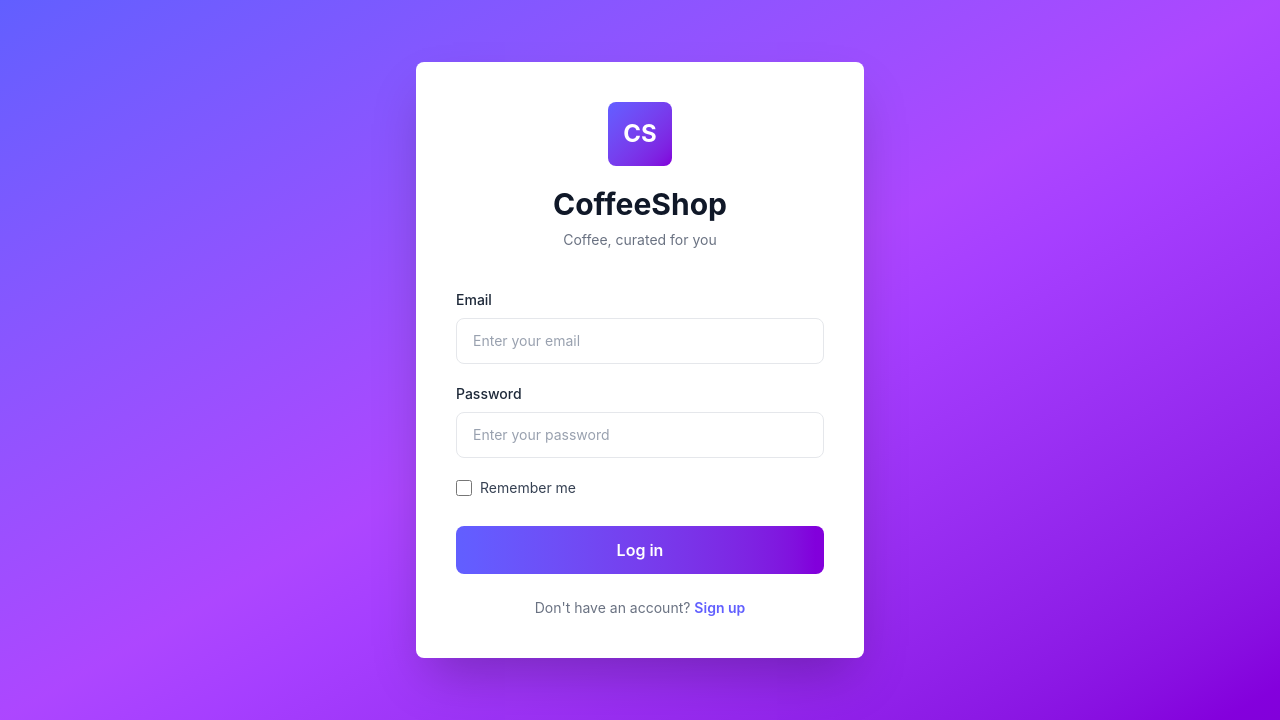
Scenario: Login Component › displays an error when credentials are invalid
Type "gresit@test.com" into the field labelled "Email".
click(640, 341); type("gresit@test.com")  # box [456,318,824,364]
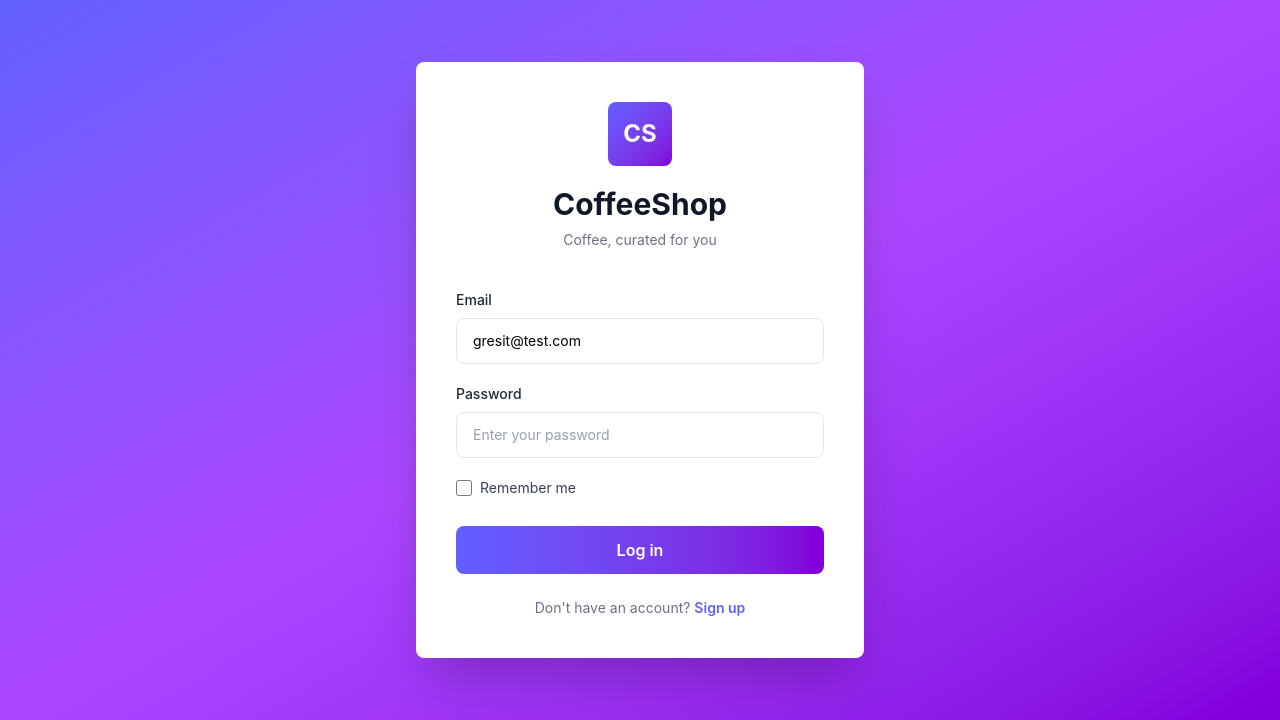
Type "gresita" into the password field labelled "Password".
click(640, 435); type("gresita")  # box [456,412,824,458]
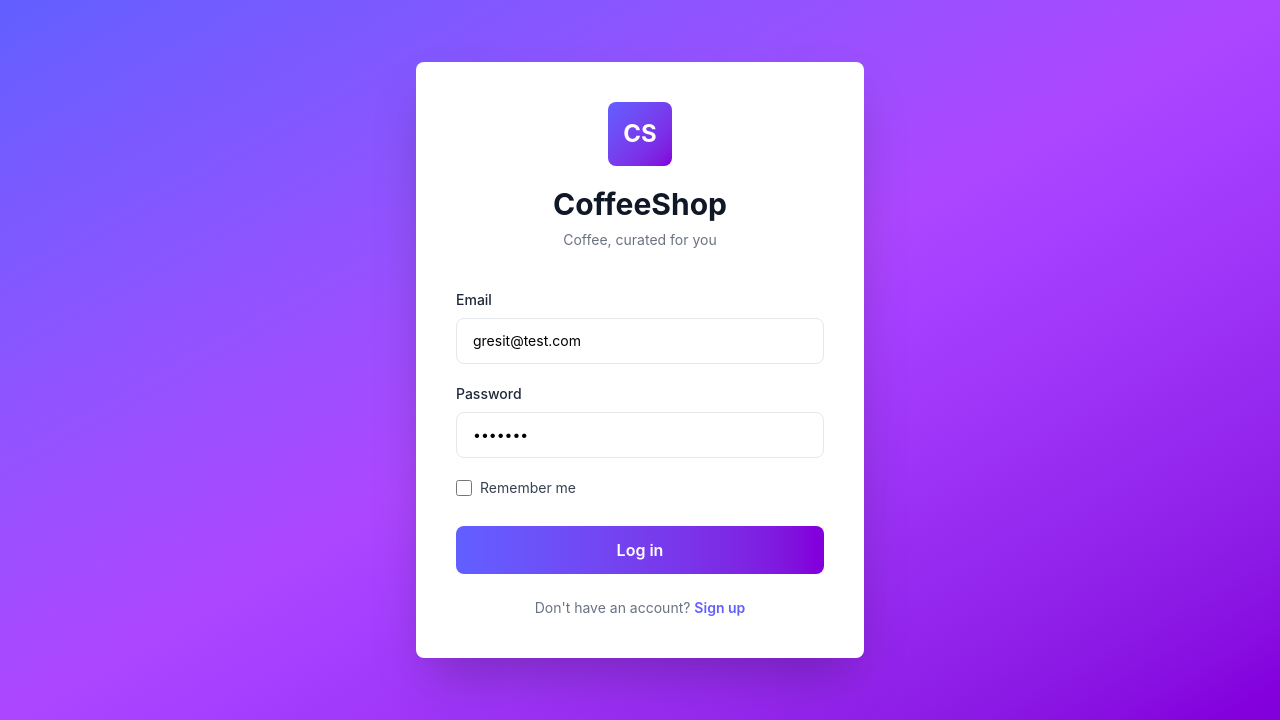
Click the button "Log in".
click(640, 550)  # box [456,526,824,574]
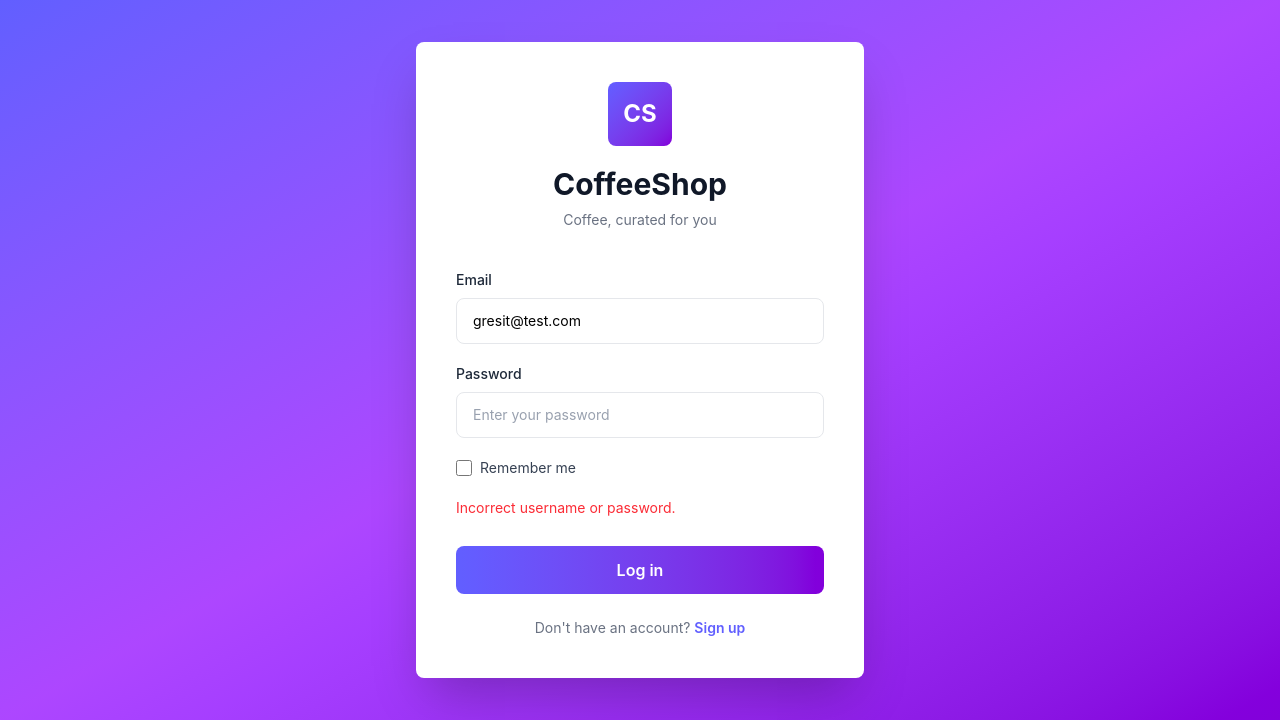
Check: the text "Incorrect username or password." is shown, box [456,499,676,516]
